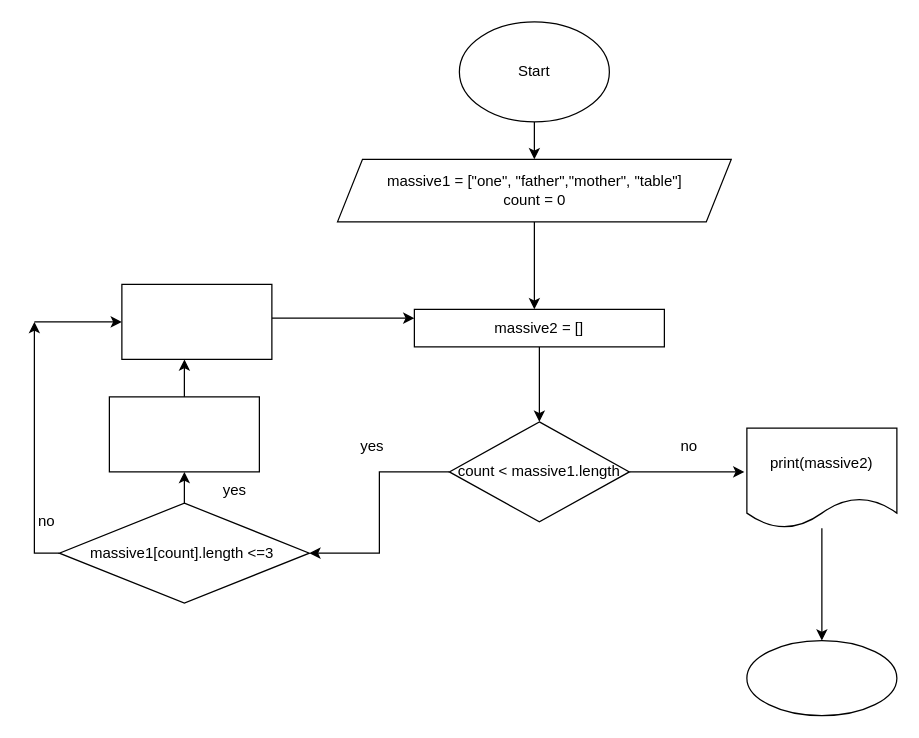
The diagram is 919 pixels wide and 738 high, and some of its shapes have lost their labels. Each missing label, with the centre of its shape:
count++: the point at 196,321
finish: the point at 821,677
massive2[count] = massive1[count]: the point at 183,434
